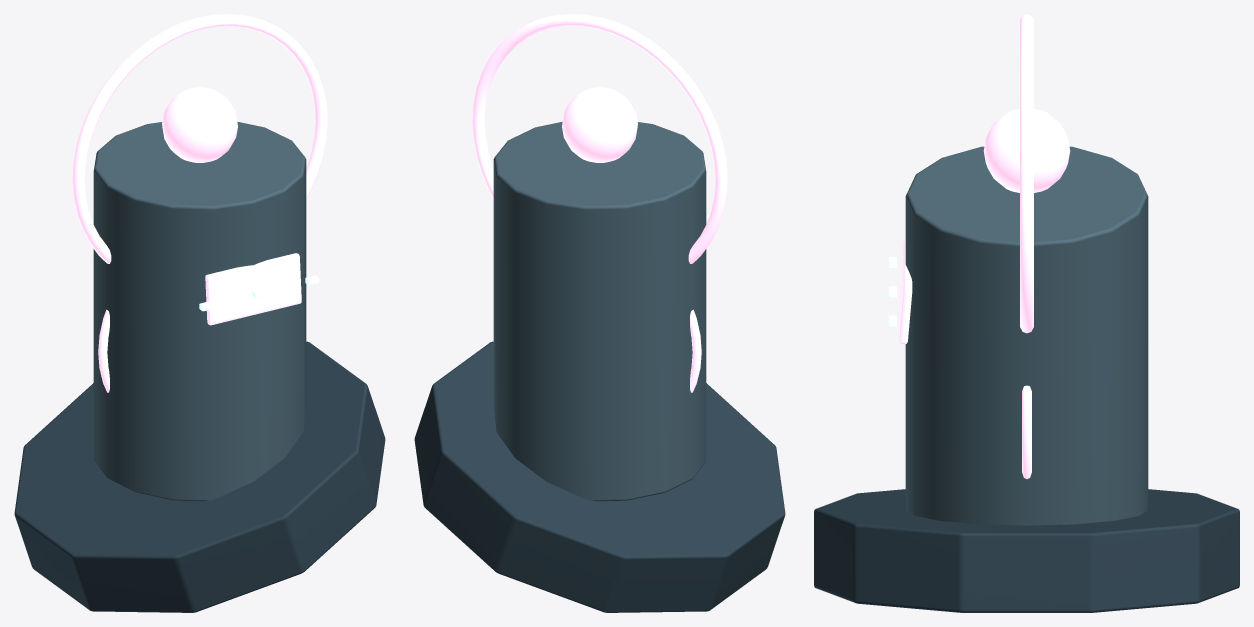
Rendered from system_node.glb.
3 renders of one model, left to right at view 1: azimuth 30°, elevation 25°; view 2: azimuth 150°, elevation 25°; view 3: azimuth 270°, elevation 25°, orthographic. The views are drawn at different scales.
Visible parts, largest first — view 1: Node_Tower, Node_Base, Node_RingTop, Node_Screen, Node_Beacon, Node_RingMid; view 2: Node_Tower, Node_Base, Node_RingTop, Node_Beacon, Node_RingMid; view 3: Node_Tower, Node_Base, Node_Beacon, Node_RingTop, Node_Screen, Node_RingMid.
Boxes of the visible parts, bbox=[...] form: Node_Tower: bbox=[93, 121, 306, 501]; Node_Base: bbox=[14, 341, 385, 612]; Node_RingTop: bbox=[72, 14, 327, 263]; Node_Screen: bbox=[205, 253, 301, 325]; Node_Beacon: bbox=[162, 87, 237, 162]; Node_RingMid: bbox=[98, 309, 109, 392]; Node_Tower: bbox=[493, 121, 706, 501]; Node_Base: bbox=[414, 341, 785, 612]; Node_RingTop: bbox=[472, 14, 727, 263]; Node_Beacon: bbox=[562, 87, 637, 162]; Node_RingMid: bbox=[690, 309, 701, 392]; Node_Tower: bbox=[905, 146, 1148, 525]; Node_Base: bbox=[814, 489, 1239, 612]; Node_Beacon: bbox=[983, 109, 1070, 192]; Node_RingTop: bbox=[1020, 14, 1033, 333]; Node_Screen: bbox=[899, 240, 912, 344]; Node_RingMid: bbox=[1022, 385, 1031, 478].
Bounding box in the file's own units: 1.42 × 2.33 × 1.48.
